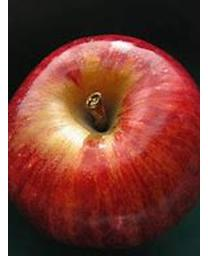apple: (8, 35, 199, 250)
